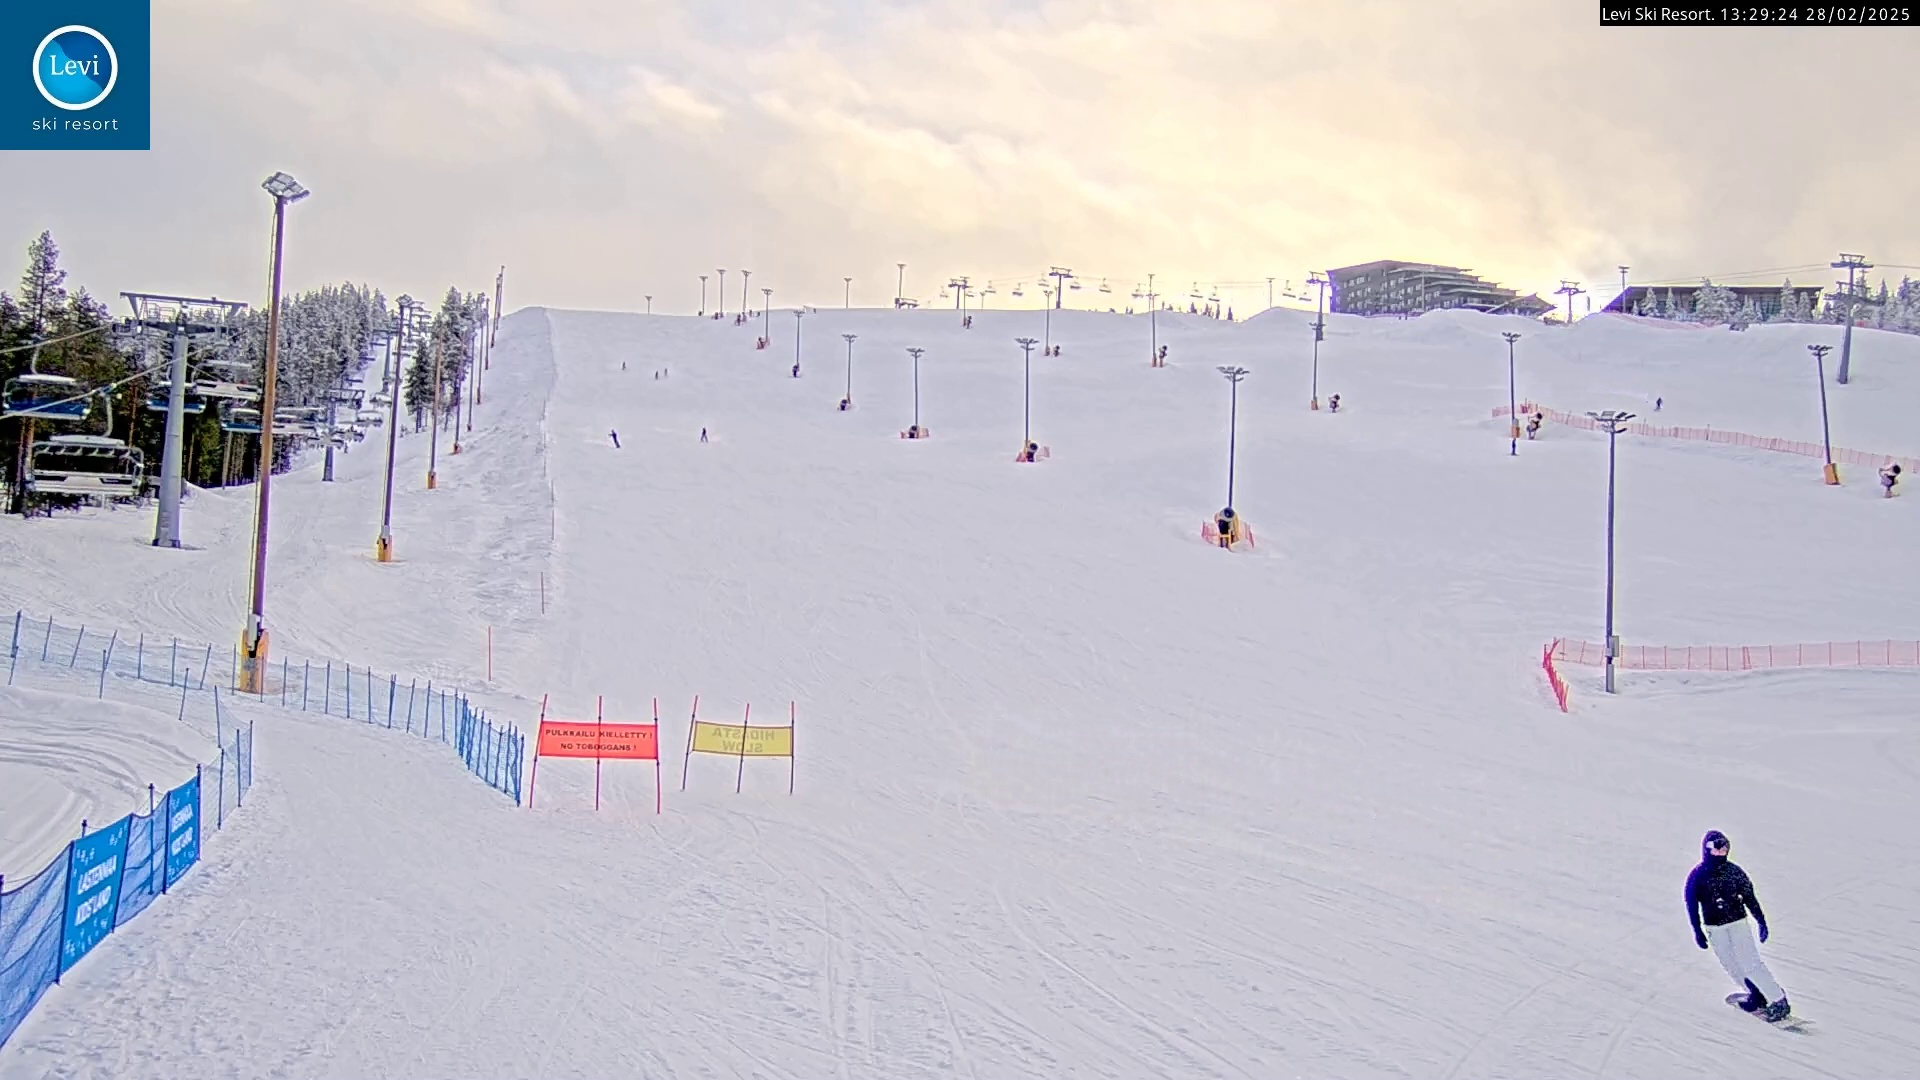snowboarder: (1681, 829, 1824, 1035)
